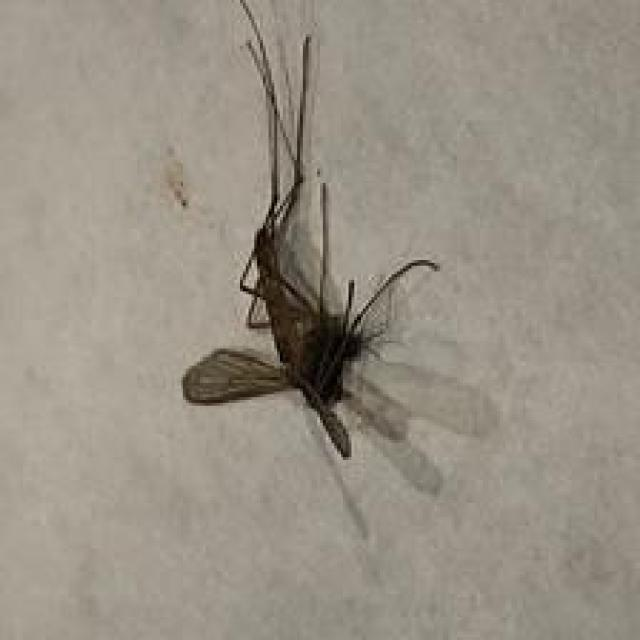Culex: (177, 0, 494, 543)
